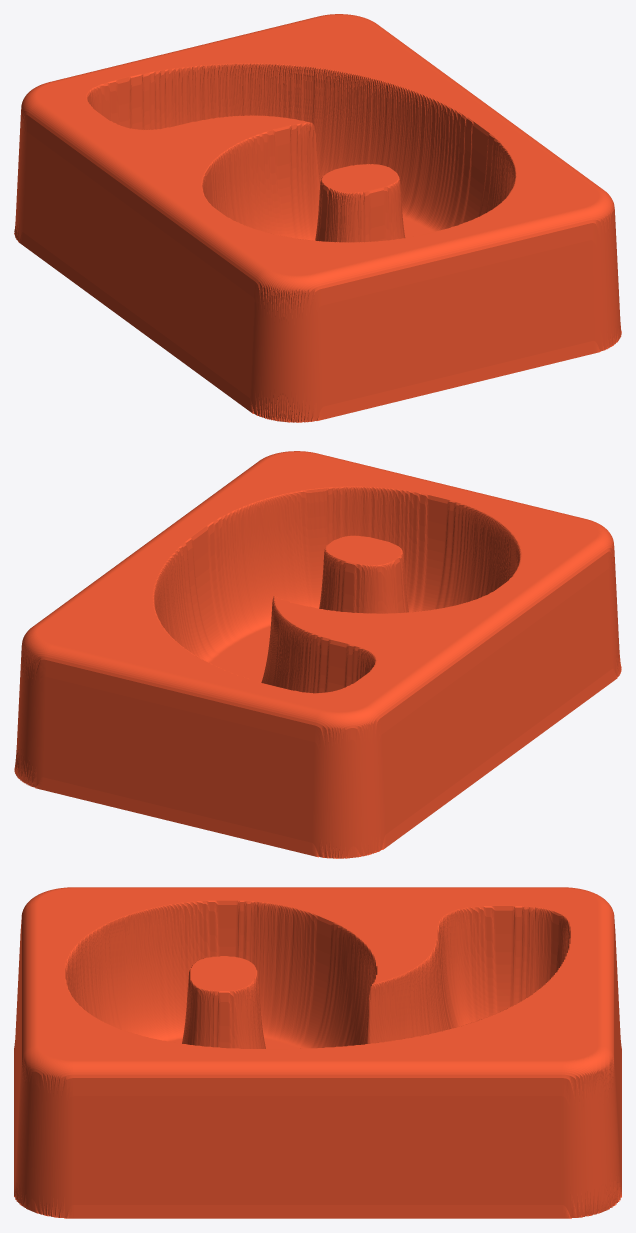
The model's file is mold.glb.
The picture shows the model from 3 angles, top to bottom: view 1: azimuth 30°, elevation 25°; view 2: azimuth 150°, elevation 25°; view 3: azimuth 270°, elevation 25°; orthographic projection. The views are drawn at different scales.
Visible parts, largest first — view 1: geometry_0; view 2: geometry_0; view 3: geometry_0.
Part boxes in pixels (x1,y1,x2,y2): geometry_0: (14, 14, 621, 422); geometry_0: (14, 451, 621, 858); geometry_0: (14, 887, 621, 1218).
Size of the model in its own units: 0.069 by 0.0248 by 0.0924.
